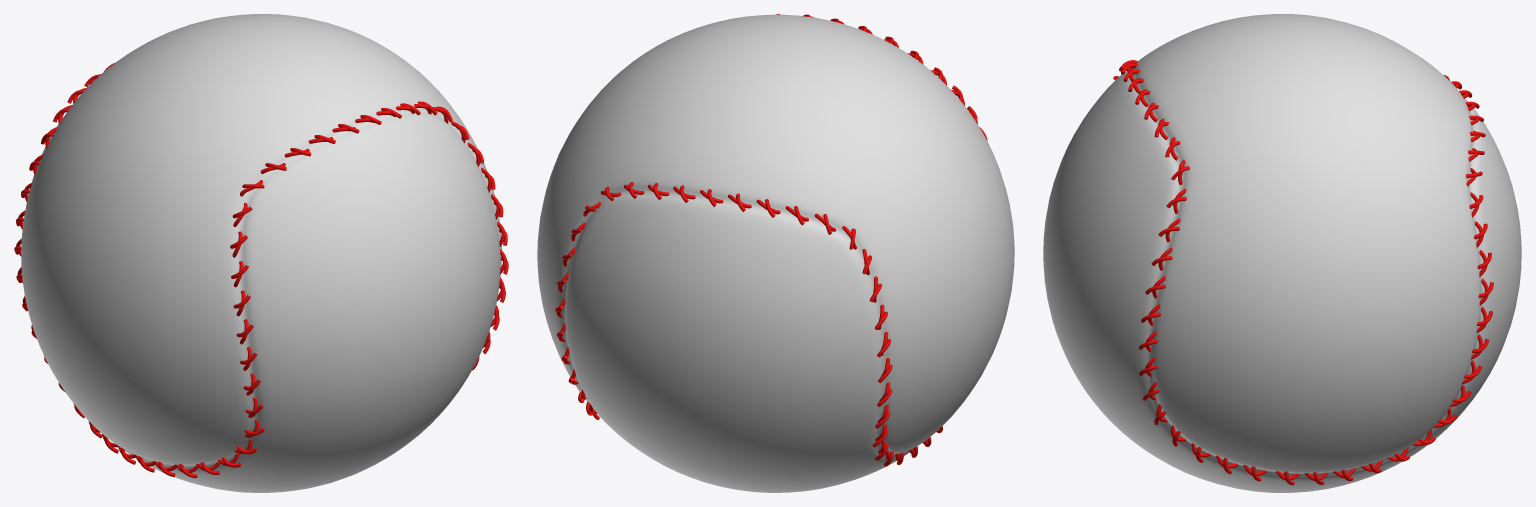
Rendered from baseball.fbx.
The picture shows the model from 3 angles, left to right: view 1: azimuth 30°, elevation 25°; view 2: azimuth 150°, elevation 25°; view 3: azimuth 270°, elevation 25°; orthographic projection.
Parts seen in each view (by area): view 1: Cube, BezierCurve; view 2: Cube, BezierCurve; view 3: Cube, BezierCurve.
Part boxes in pixels (x1,y1,x2,y2): Cube: [21, 14, 501, 492]; BezierCurve: [14, 63, 508, 477]; Cube: [537, 14, 1014, 492]; BezierCurve: [555, 14, 987, 466]; Cube: [1043, 14, 1521, 492]; BezierCurve: [1113, 60, 1493, 485].
Bounding box in the file's own units: 255 × 255 × 255.
